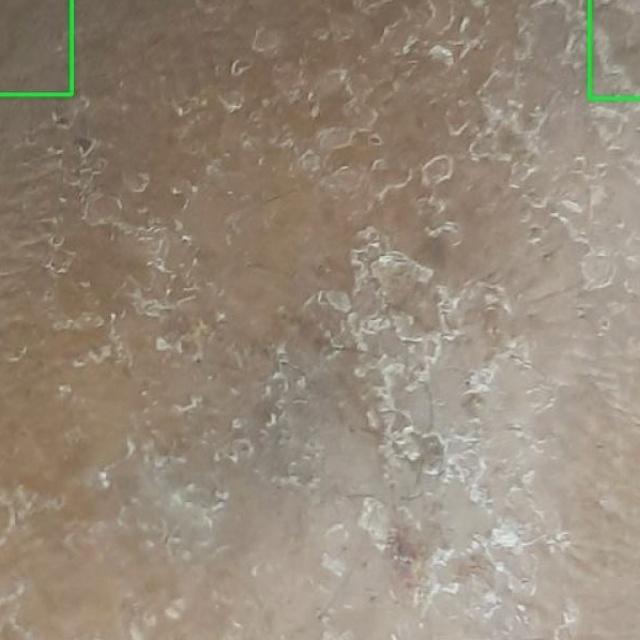Eczema: (0, 0, 71, 94)
